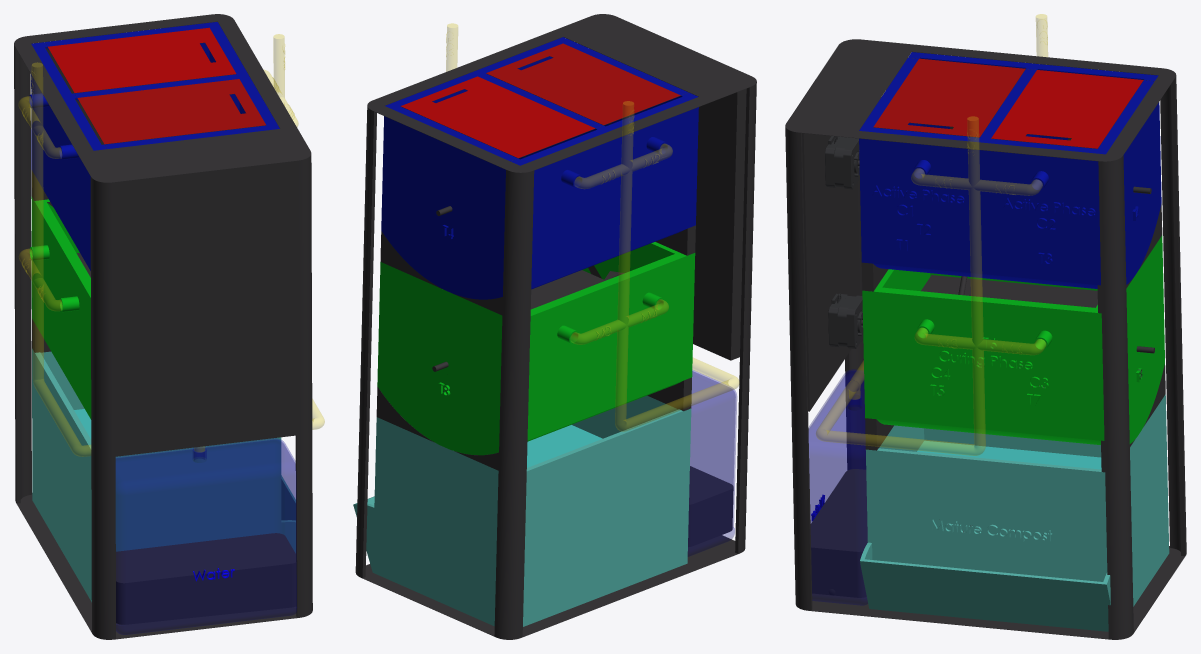
File: full.glb
3 renders of one model, left to right at view 1: azimuth 30°, elevation 25°; view 2: azimuth 150°, elevation 25°; view 3: azimuth 270°, elevation 25°, orthographic. The views are drawn at different scales.
Parts seen in each view (by area): view 1: Part3-1, bottle-1, Part5-1, wasteeee-1, Part1-1, Part2-1, lid-2, lid-1, pipe line-1; view 2: Part3-1, Part5-1, Part1-1, Part2-1, pipe line-1, bottle-1, lid-1, lid-2, wasteeee-1, waste 3-1, waste 2-1, connector-3 (+3 smaller); view 3: Part3-1, Part5-1, Part1-1, Part2-1, bottle-1, pipe line-1, lid-1, lid-2, wasteeee-1, waste 2-1, waste 3-1, nema 17 motor-1 (+2 smaller).
Part boxes in pixels (box(x1,y1,x2,y2)): Part3-1: box(14, 14, 312, 639); bottle-1: box(115, 438, 296, 634); Part5-1: box(32, 348, 295, 602); wasteeee-1: box(116, 533, 296, 624); Part1-1: box(29, 22, 279, 270); Part2-1: box(29, 196, 91, 419); lid-2: box(77, 79, 266, 144); lid-1: box(47, 27, 236, 93); pipe line-1: box(18, 34, 324, 456); Part3-1: box(355, 14, 756, 639); Part5-1: box(353, 395, 691, 626); Part1-1: box(381, 37, 698, 299); Part2-1: box(377, 242, 695, 455); pipe line-1: box(446, 23, 739, 431); bottle-1: box(688, 370, 736, 556); lid-1: box(400, 76, 595, 158); lid-2: box(486, 43, 680, 125); wasteeee-1: box(688, 466, 733, 547); waste 3-1: box(527, 425, 602, 467); waste 2-1: box(530, 270, 603, 309); connector-3: box(380, 231, 502, 315); Part3-1: box(785, 39, 1186, 639); Part5-1: box(860, 394, 1169, 631); Part1-1: box(859, 52, 1161, 288); Part2-1: box(862, 235, 1164, 444); bottle-1: box(808, 369, 867, 605); pipe line-1: box(816, 14, 1047, 455); lid-1: box(991, 70, 1143, 148); lid-2: box(873, 58, 1025, 137); wasteeee-1: box(810, 469, 867, 597); waste 2-1: box(921, 275, 1097, 307); waste 3-1: box(917, 440, 1101, 469); nema 17 motor-1: box(828, 293, 863, 348).
Size of the model in its own units: 0.5678 by 0.9805 by 0.689.
